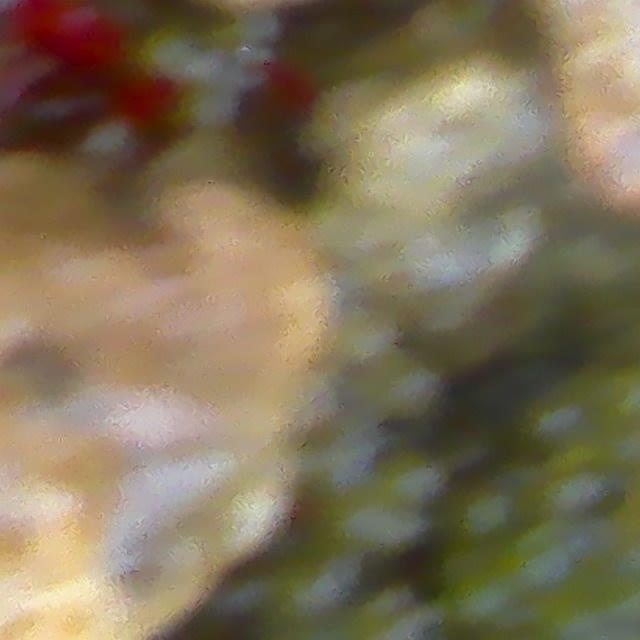SeaGrape: (595, 366, 639, 424)
